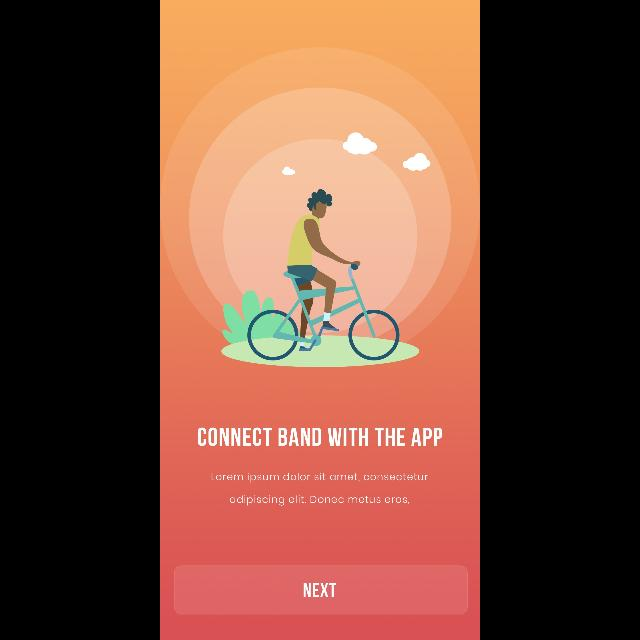image: (221, 132, 431, 368)
text: (212, 472, 428, 506), (198, 428, 442, 446)
textbutton: (175, 566, 468, 614)
